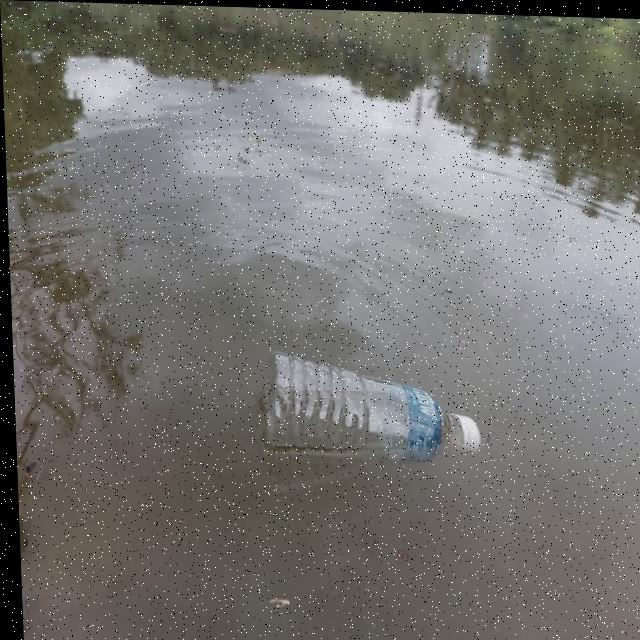waterbottle: (240, 341, 502, 478)
